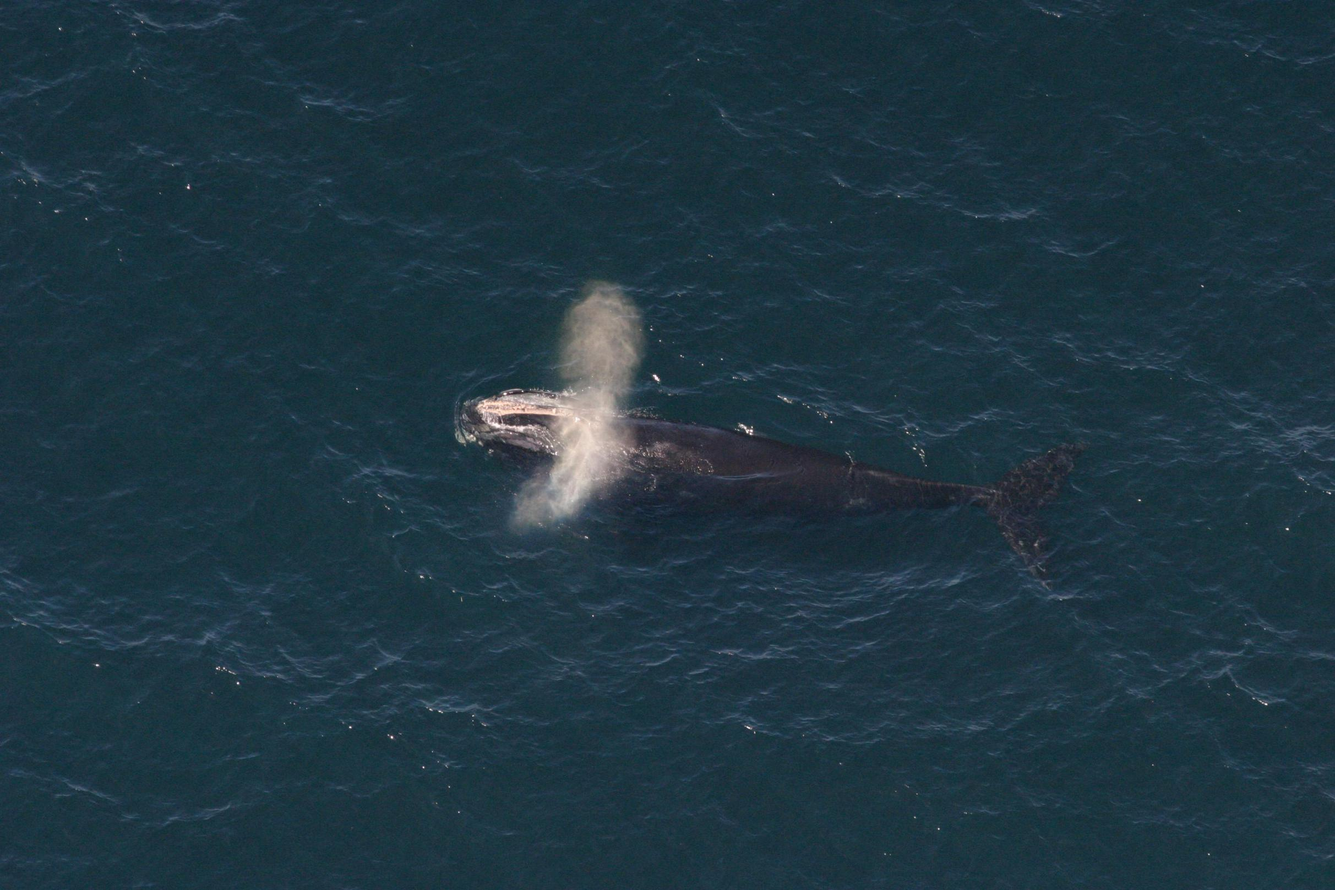whale: (450, 380, 1099, 611)
